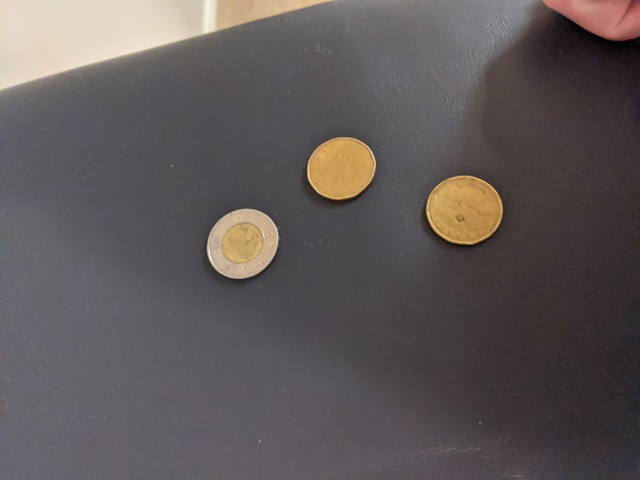loonie: (422, 162, 514, 249), (300, 137, 387, 207)
twonie: (196, 196, 284, 278)
